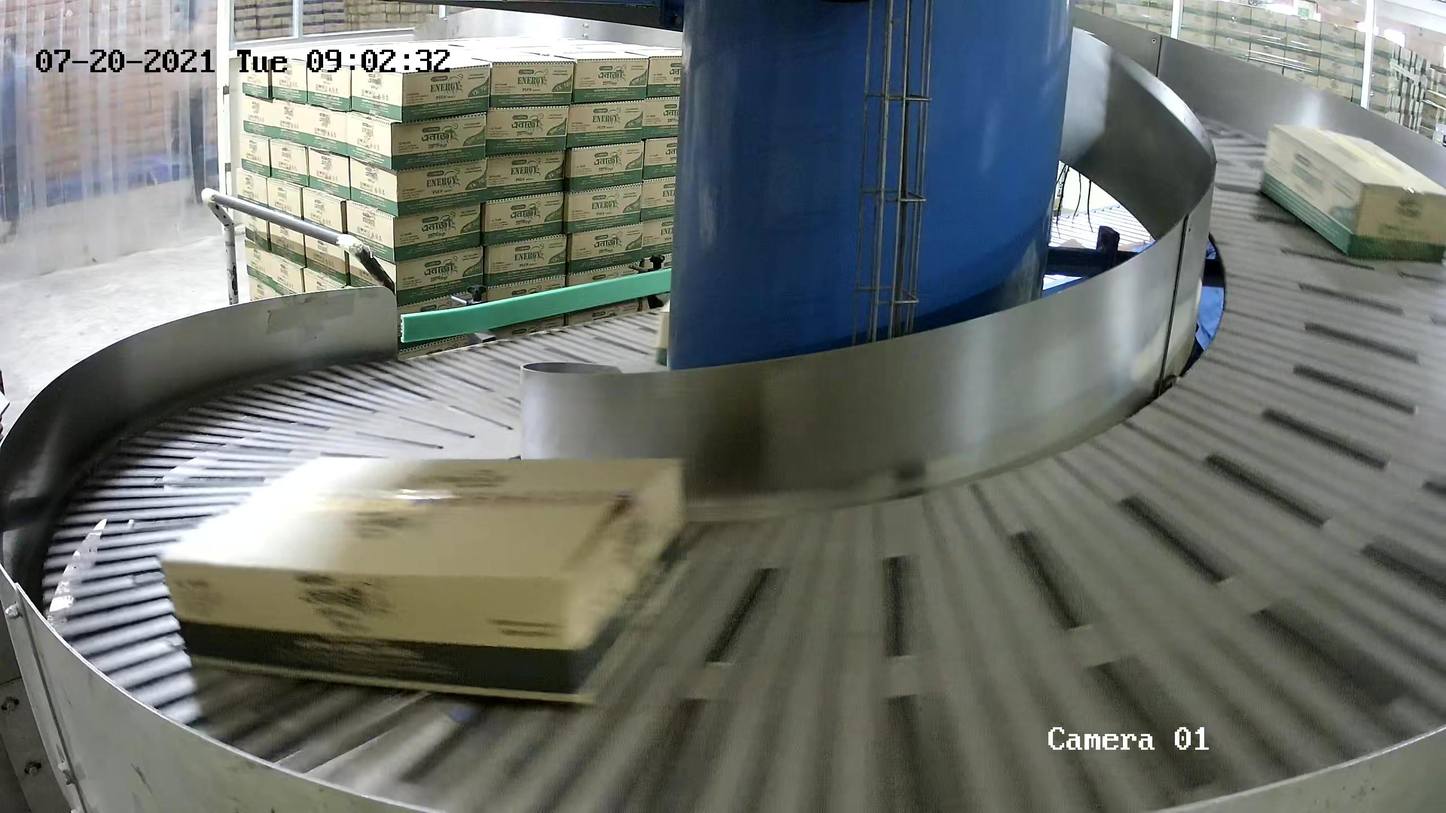Box: (154, 450, 701, 710), (1259, 117, 1446, 267)
